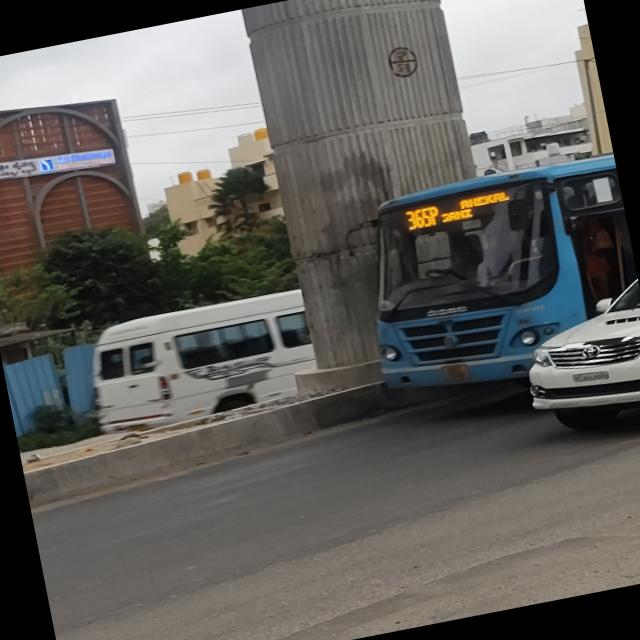bus: (325, 143, 640, 414)
display: (396, 184, 520, 238)
dnumber: (403, 204, 442, 231)
